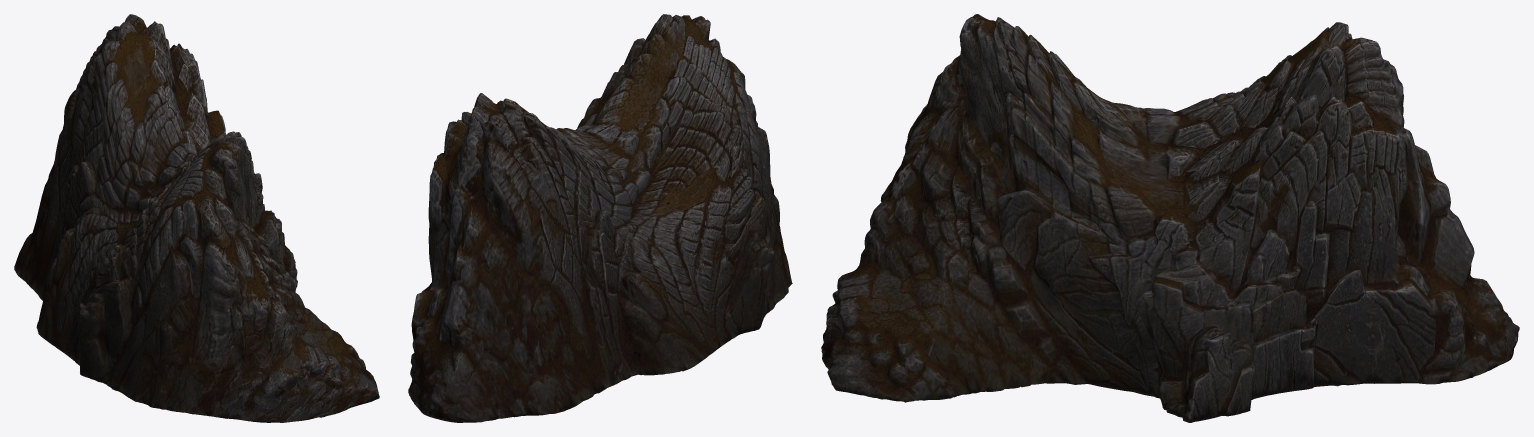
Rendered from Rock_01_Split_Peaks.fbx.
3 views of the same model, side by side, from view 1: azimuth 30°, elevation 25°; view 2: azimuth 150°, elevation 25°; view 3: azimuth 270°, elevation 25° (orthographic). The views are drawn at different scales.
Parts seen in each view (by area): view 1: Rock_01_Split_Peaks; view 2: Rock_01_Split_Peaks; view 3: Rock_01_Split_Peaks.
Boxes of the visible parts, x1=… form: Rock_01_Split_Peaks: x1=14, y1=14, x2=379, y2=422; Rock_01_Split_Peaks: x1=408, y1=14, x2=792, y2=422; Rock_01_Split_Peaks: x1=821, y1=14, x2=1519, y2=422.
Bounding box in the file's own units: 61.61 × 56.77 × 109.
1 material, 1 textured.
